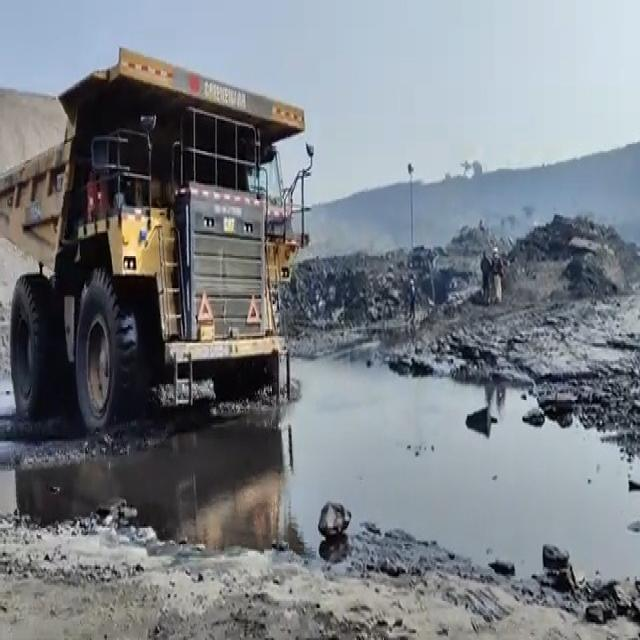dump_truck: (0, 54, 294, 421)
